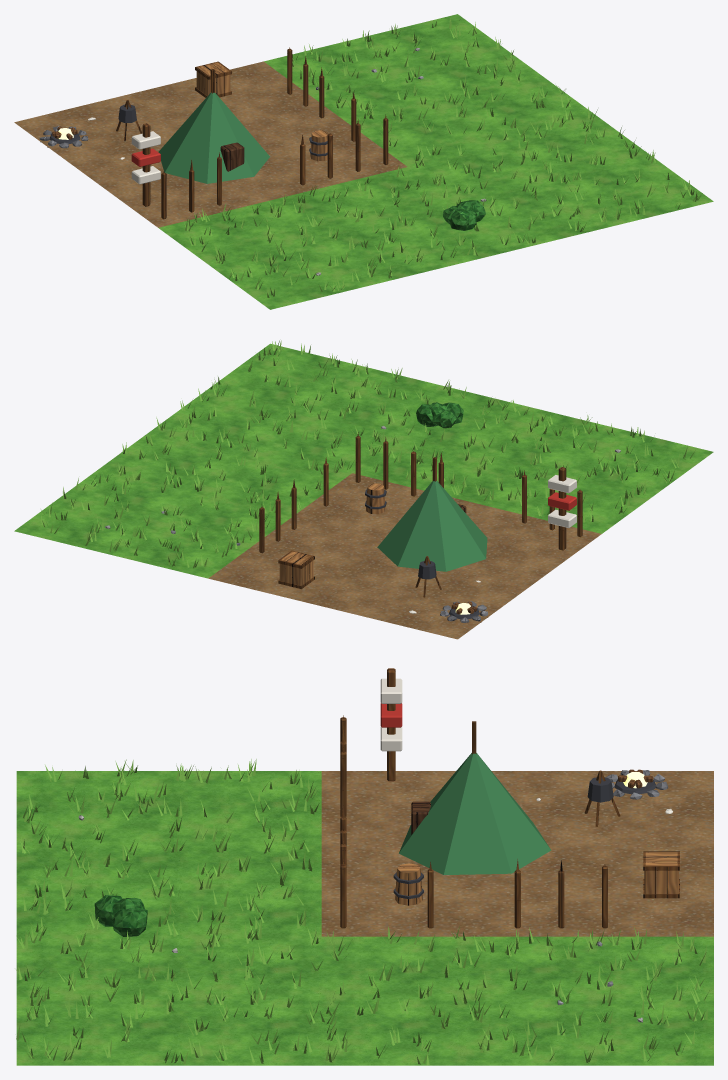
Rendered from chunk_3_5.glb.
3 views of the same model, one above another, from view 1: azimuth 30°, elevation 25°; view 2: azimuth 150°, elevation 25°; view 3: azimuth 270°, elevation 25° (orthographic). The views are drawn at different scales.
Visible parts, largest first — view 1: chunk_3_5; view 2: chunk_3_5; view 3: chunk_3_5.
Part boxes in pixels (x1,y1,x2,y2): chunk_3_5: (14,14,713,309); chunk_3_5: (14,340,713,639); chunk_3_5: (16,668,713,1065).
Bounding box in the file's own units: 16.1 × 3.25 × 16.06.
Materials: 16 (10 with a texture image).
